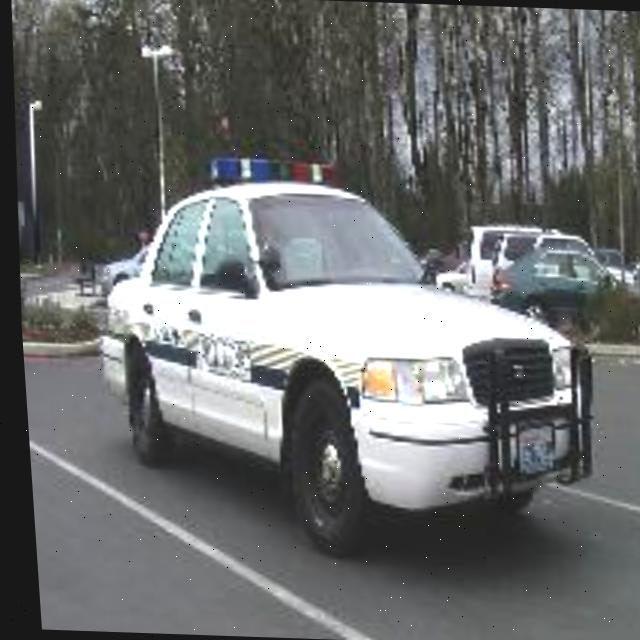emergency: (78, 126, 604, 562)
